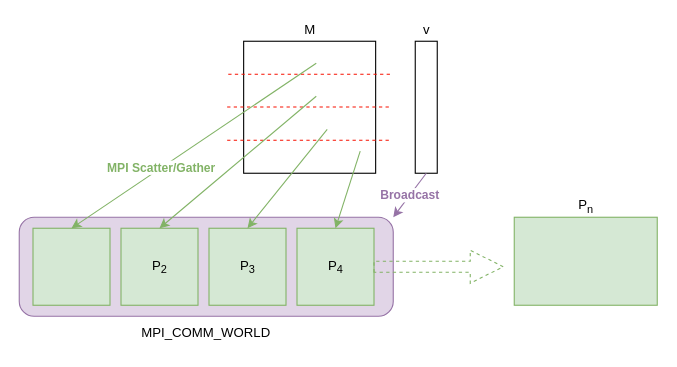
The diagram is 677 pixels wide and 367 high, and some of its shapes have lost their labels. The shapes that lost their labels are listed below. From the top down, each one's box as (x1, y1, x2, y2) in pixels, then its label:
(32, 227, 110, 305): P 1
(513, 216, 657, 305): - Local Mv - Local M SVD - Call a pretrained NN
